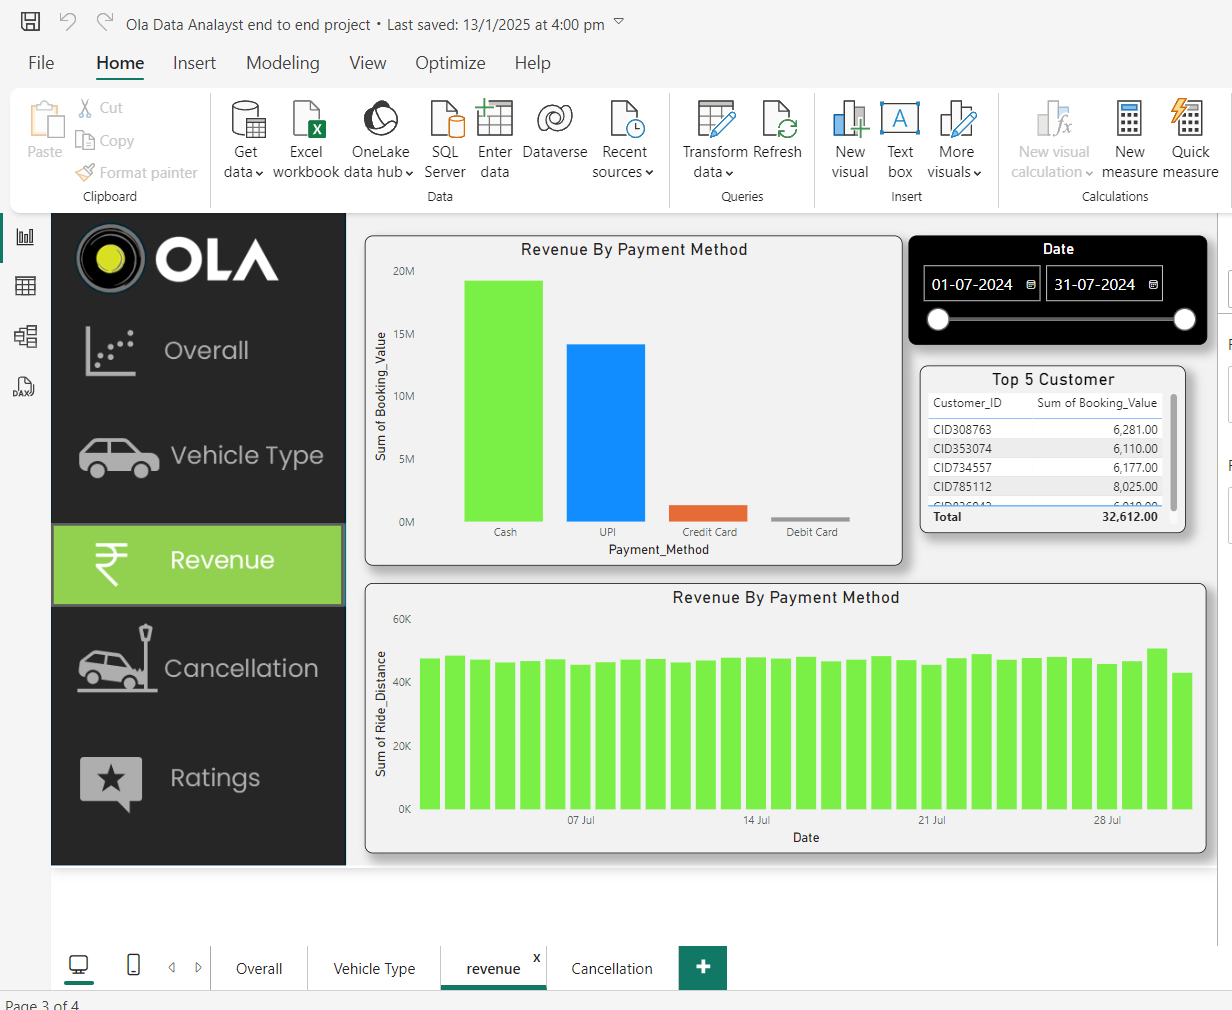

What the dashboard file says about the page in this screenshot:
{"tool":"powerbi","page":{"name":"revenue","canvas":[1280,720],"ordinal":2},"visuals":[{"type":"actionButton","box":[0,339.9,321.5,92],"z":0},{"type":"actionButton","box":[0,109.2,321.5,92],"z":1000},{"type":"actionButton","box":[0,224.5,321.5,92],"z":2000},{"type":"actionButton","box":[0,451.5,321.5,92],"z":3000},{"type":"actionButton","box":[0,581.6,321.5,92],"z":4000},{"type":"columnChart","title":"Revenue By Payment Method","fields":{"Y":["Sum(Bookings-100000-Rows - July.Booking_Value)"],"Category":["Bookings-100000-Rows - July.Payment_Method"]},"box":[344.9,24.2,590.1,362],"z":4001},{"type":"columnChart","title":"Revenue By Payment Method","fields":{"Y":["Sum(Bookings-100000-Rows - July.Ride_Distance)"],"Category":["Bookings-100000-Rows - July.Date"]},"box":[344.9,406.2,923.7,296.5],"z":4002},{"type":"slicer","title":"Date","fields":{"Values":["Bookings-100000-Rows - July.Date"]},"box":[940.8,24.2,327.8,119.7],"z":4003},{"type":"tableEx","title":"Top 5 Customer","fields":{"Values":["Bookings-100000-Rows - July.Customer_ID","Sum(Bookings-100000-Rows - July.Booking_Value)"]},"box":[953.6,166.8,292.2,183.9],"z":4004}]}

Visuals, with their boxes on the page's 1280x720 design canvas (x1, y1, x2, y2). These are canvas units, not pixel positions in the 1232x1010 screenshot, which may show the page scaled, cropped or inside an application window:
actionButton: (left=0, top=340, right=322, bottom=432)
actionButton: (left=0, top=109, right=322, bottom=201)
actionButton: (left=0, top=224, right=322, bottom=316)
actionButton: (left=0, top=452, right=322, bottom=544)
actionButton: (left=0, top=582, right=322, bottom=674)
"Revenue By Payment Method" columnChart: (left=345, top=24, right=935, bottom=386)
"Revenue By Payment Method" columnChart: (left=345, top=406, right=1269, bottom=703)
"Date" slicer: (left=941, top=24, right=1269, bottom=144)
"Top 5 Customer" tableEx: (left=954, top=167, right=1246, bottom=351)
